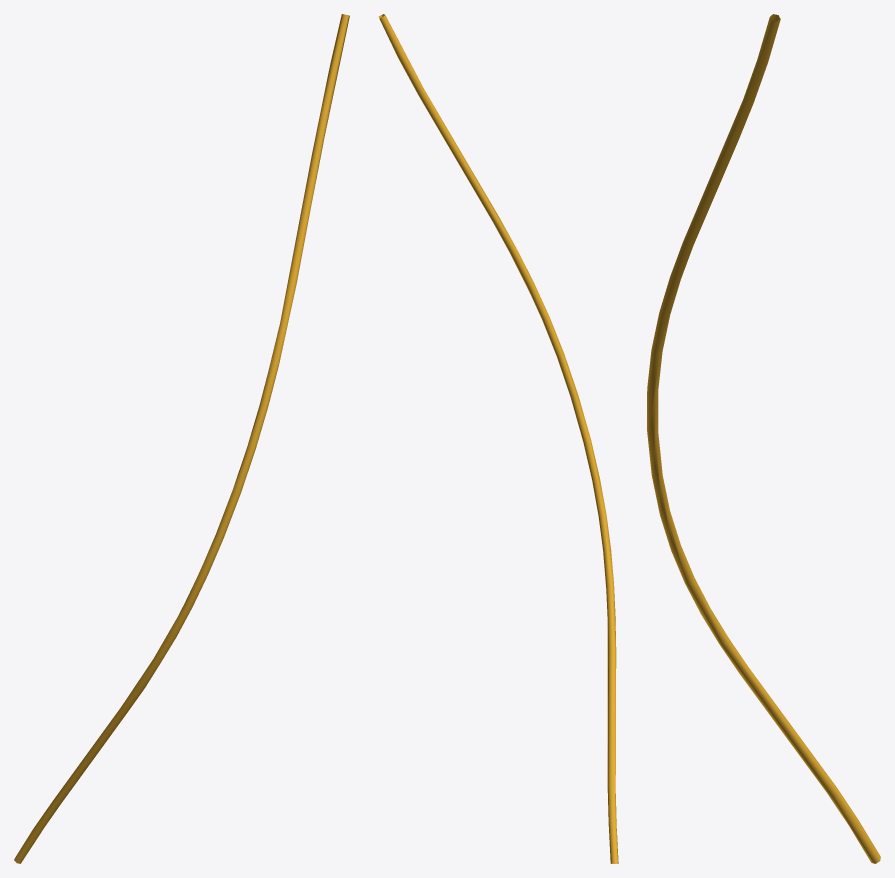
The model's file is nervoso-medial-crural-cutaneous-branches-of-saphenous-nerve-l.glb.
3 views of the same model, side by side, from view 1: azimuth 30°, elevation 25°; view 2: azimuth 150°, elevation 25°; view 3: azimuth 270°, elevation 25° (orthographic). The views are drawn at different scales.
Visible parts, largest first — view 1: Medial crural cutaneous branches of saphenous nerve.l; view 2: Medial crural cutaneous branches of saphenous nerve.l; view 3: Medial crural cutaneous branches of saphenous nerve.l.
Part boxes in pixels (<box>): Medial crural cutaneous branches of saphenous nerve.l: <box>14,14,349,863</box>; Medial crural cutaneous branches of saphenous nerve.l: <box>378,14,618,863</box>; Medial crural cutaneous branches of saphenous nerve.l: <box>647,14,880,863</box>.
Size of the model in its own units: 0.0386 by 0.1008 by 0.0209.
